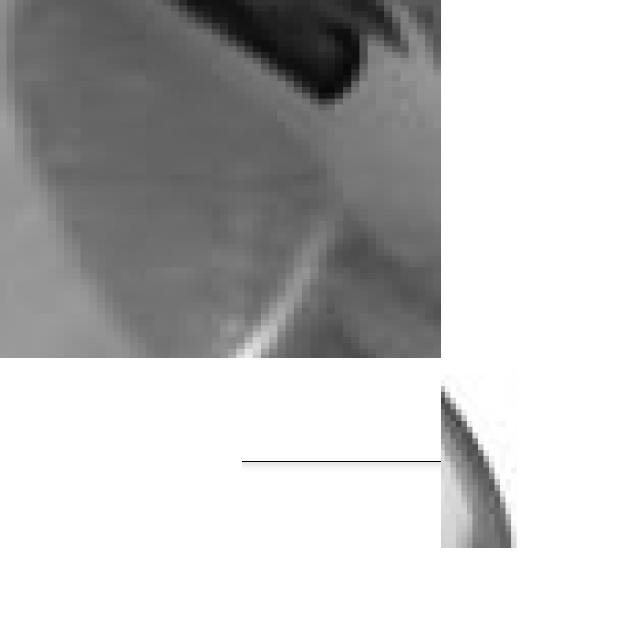forks: (224, 479, 441, 640), (441, 358, 630, 434)
spoons: (0, 0, 441, 358)
